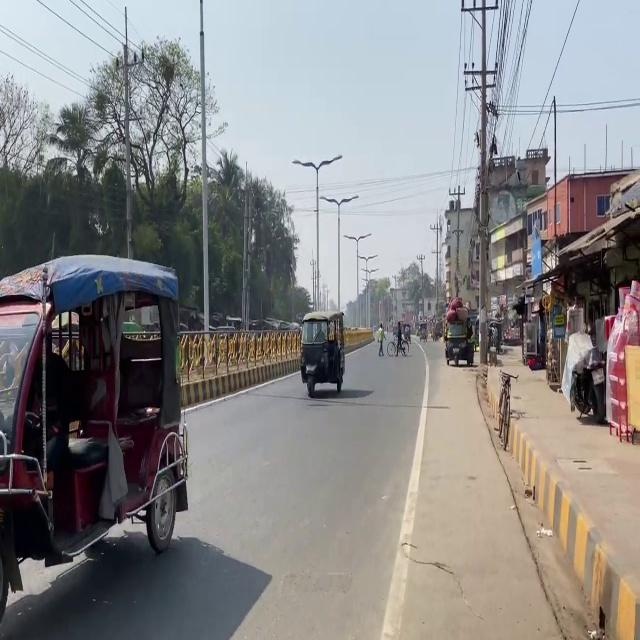Construction-barrier: (508, 419, 606, 637)
Fallen-tree: (386, 323, 411, 356)
Garbage-bin: (374, 322, 386, 356)
Pothole: (476, 341, 639, 638)
Traffic-cone: (0, 252, 190, 621), (288, 292, 368, 410), (443, 315, 475, 366)
